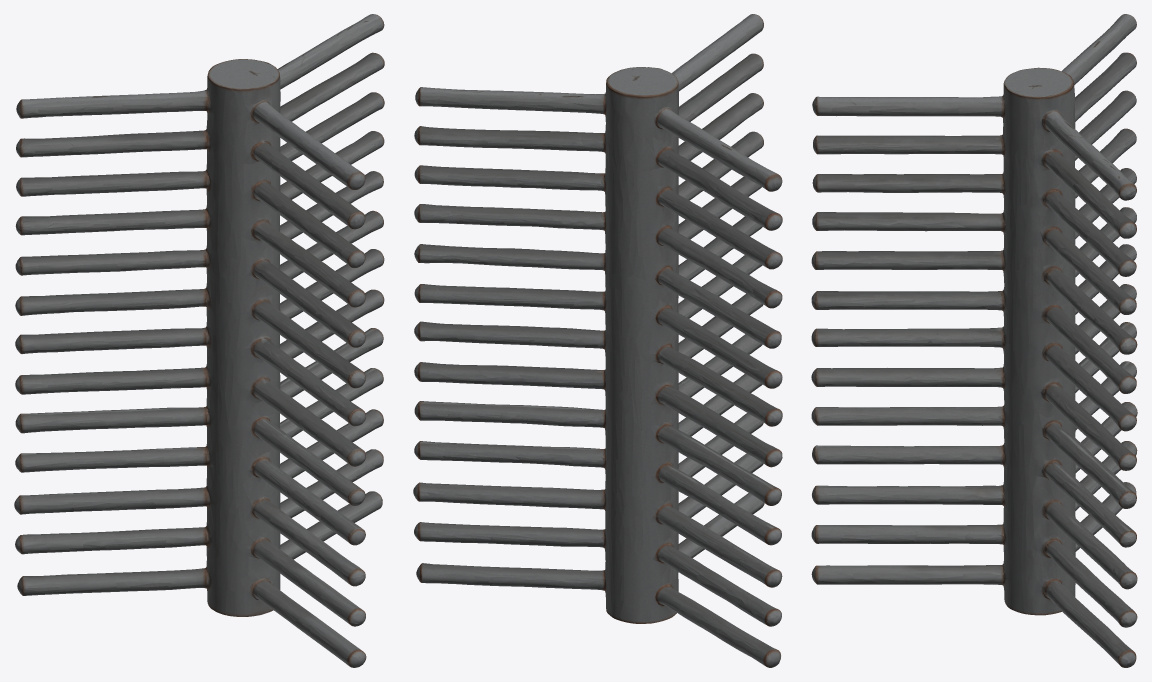
File: tornello_rotore.glb
3 renders of one model, left to right at view 1: azimuth 30°, elevation 25°; view 2: azimuth 150°, elevation 25°; view 3: azimuth 270°, elevation 25°, orthographic.
Visible parts, largest first — view 1: Mesh_0; view 2: Mesh_0; view 3: Mesh_0.
Part boxes in pixels (x1=…): Mesh_0: x1=14, y1=14, x2=384, y2=667; Mesh_0: x1=413, y1=14, x2=782, y2=667; Mesh_0: x1=811, y1=14, x2=1137, y2=667.
Bounding box in the file's own units: 1.38 × 1.9 × 1.08.
1 material, 1 textured.
